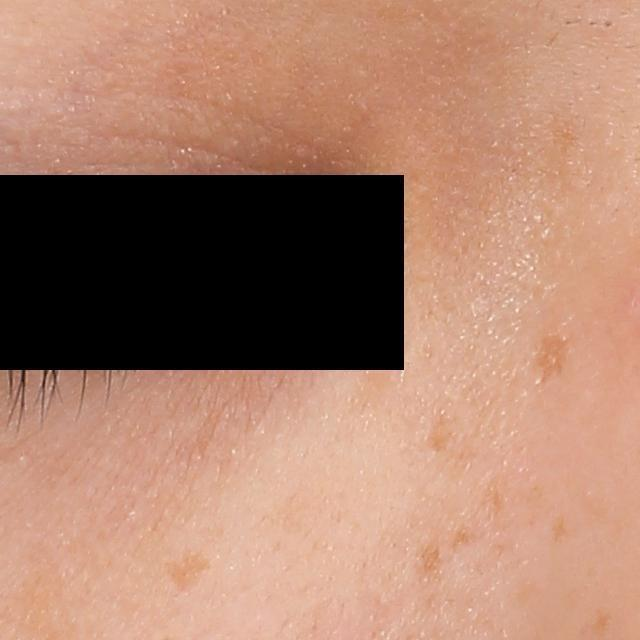melasma: (160, 542, 213, 598), (531, 327, 571, 390), (482, 474, 510, 522), (446, 518, 475, 556), (418, 537, 446, 575), (423, 419, 453, 453), (552, 510, 572, 541)
